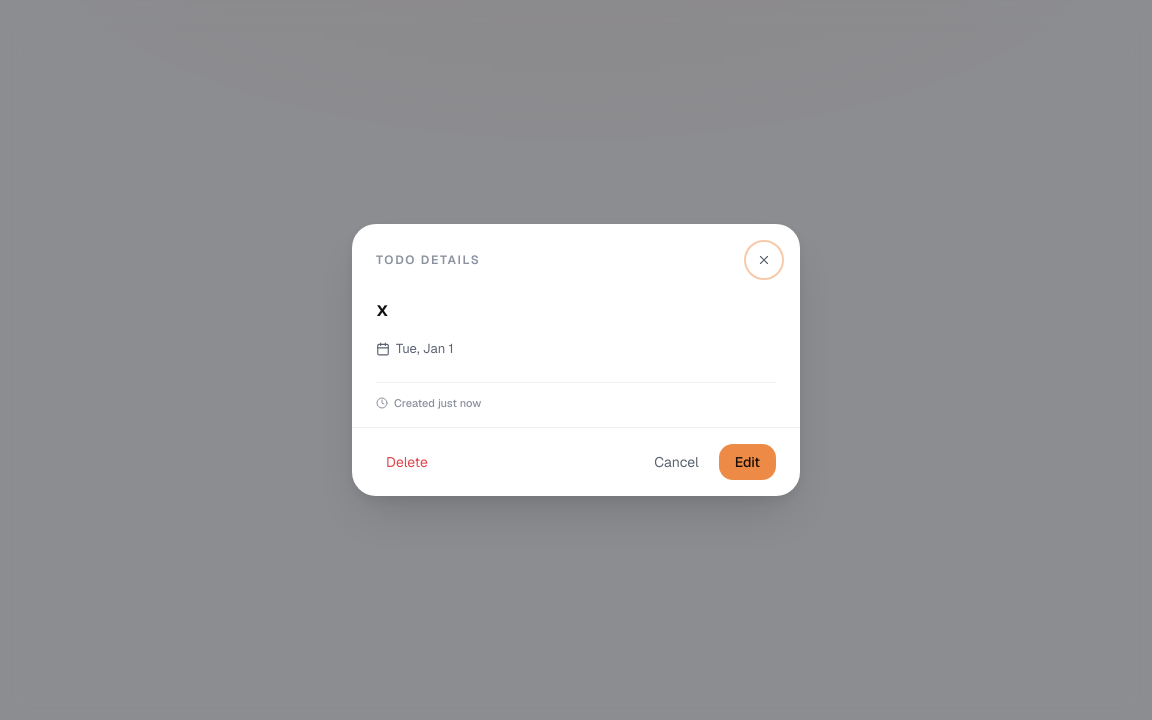
Test: <TodoModal> › clears the due date with the 'clear' button
Need to enter edit mode first.
Click the button "Edit".
click(747, 462)  # box [719,444,776,480]
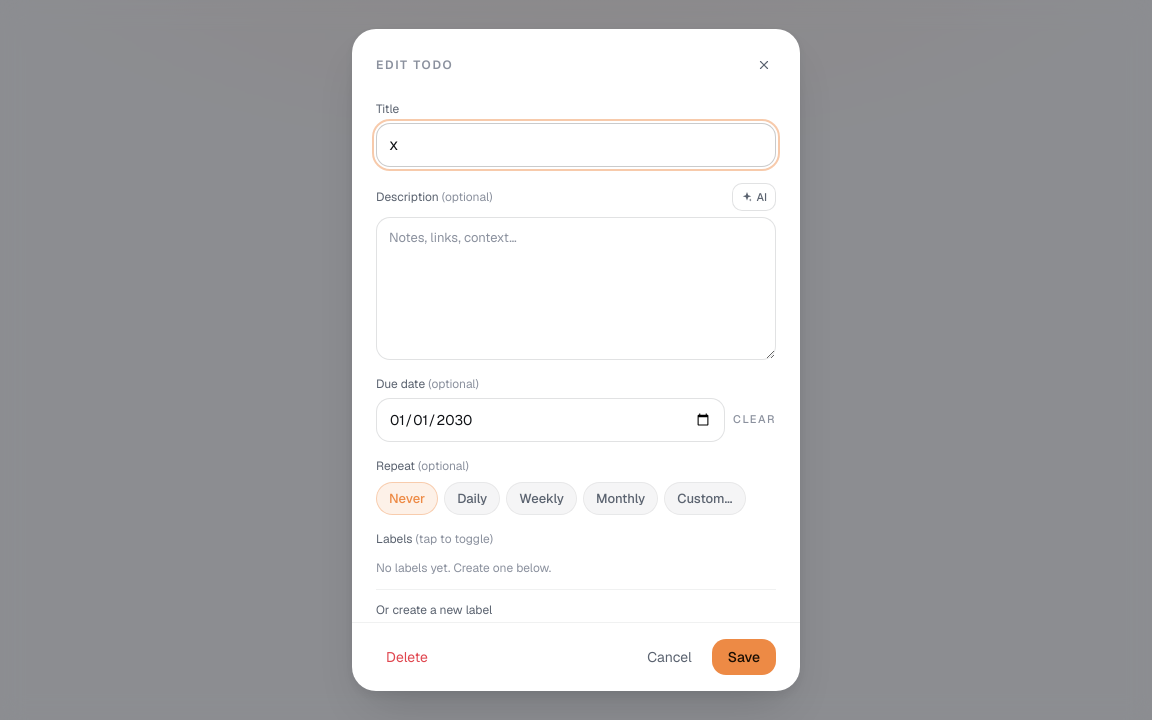
Check: the date field labelled "Due date (optional)" holds "2030-01-01", box [376,398,725,442]
Click the button "clear".
click(755, 420)  # box [733,411,776,428]
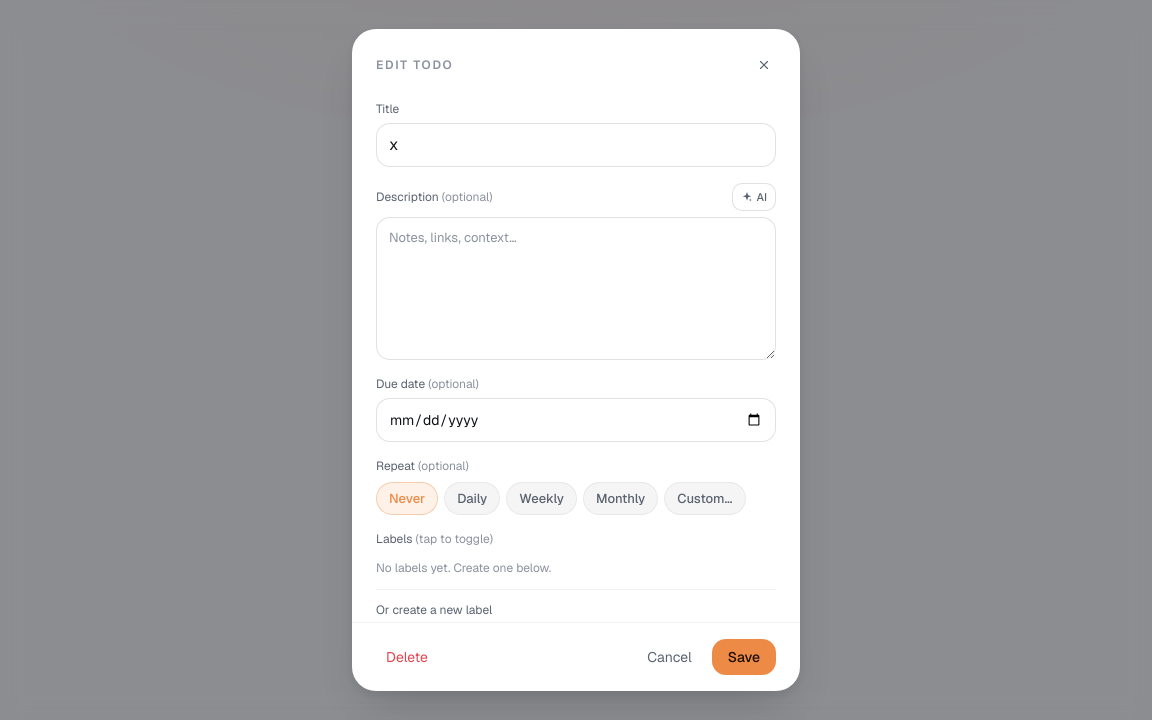
Check: the date field labelled "Due date (optional)" is empty, box [376,398,776,442]
